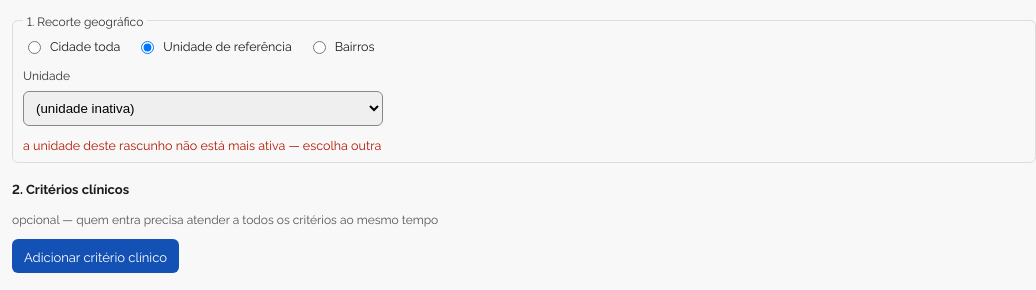
it: AudienceBuilder — recorte › rascunho com unidade fora da lista: aparece como (unidade inativa)
Check: the message reads "a unidade deste rascunho não está mais ativa — escolha outra", box [23,136,381,153]
Select "UPA Boqueirão" in the dropdown labelled "Unidade". click: [203, 108]
box: [23,91,383,126]
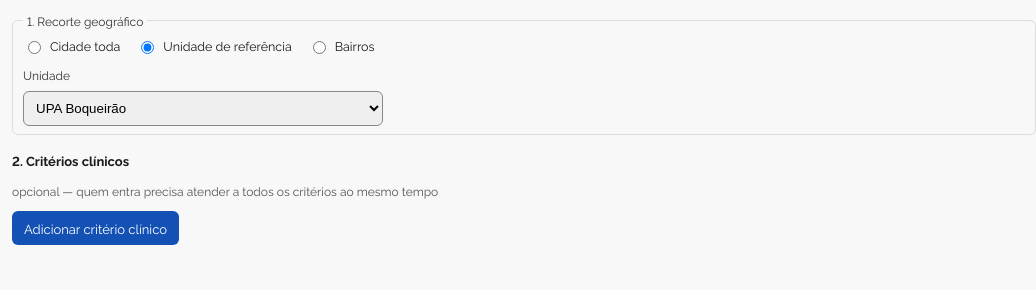
Check: the option "(unidade inativa)" is not shown
Check: the message "a unidade deste rascunho não está mais ativa — escolha outra" is gone
